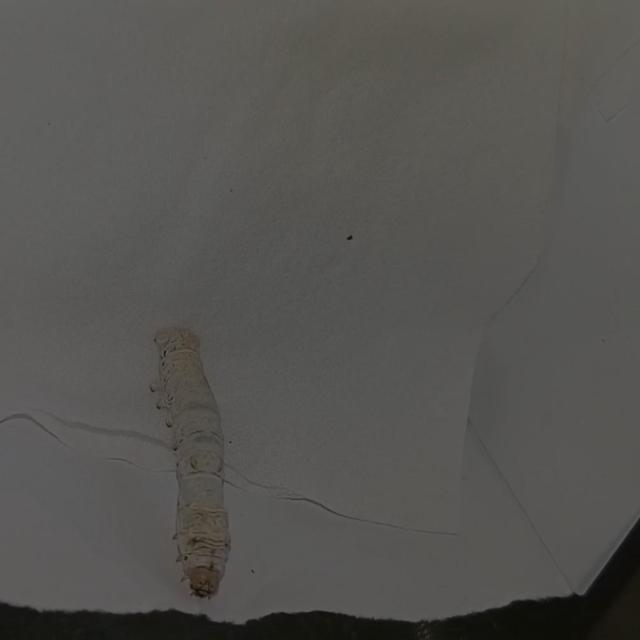Healthy: (136, 318, 257, 606)
